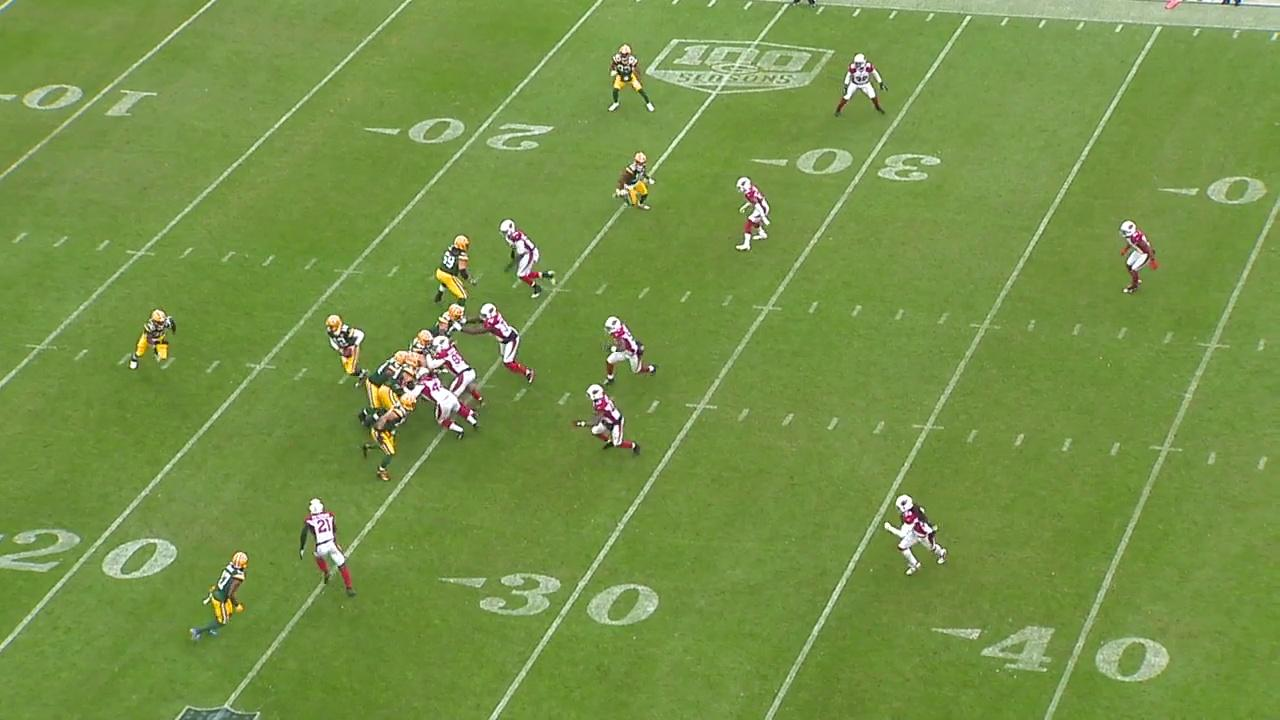defense: (453, 302, 537, 384), (296, 494, 359, 600), (398, 365, 483, 443), (879, 493, 950, 579), (423, 335, 488, 421), (571, 383, 645, 458), (496, 217, 558, 300), (599, 314, 659, 388), (831, 51, 891, 119), (1118, 217, 1159, 295), (735, 175, 772, 254)
oline: (359, 350, 423, 434), (357, 348, 409, 426), (431, 231, 478, 317), (431, 302, 466, 337), (410, 323, 433, 353)
qb: (323, 312, 372, 388)
skill: (185, 547, 252, 646), (358, 392, 419, 487), (604, 40, 656, 115), (127, 304, 180, 373), (609, 149, 658, 216)
